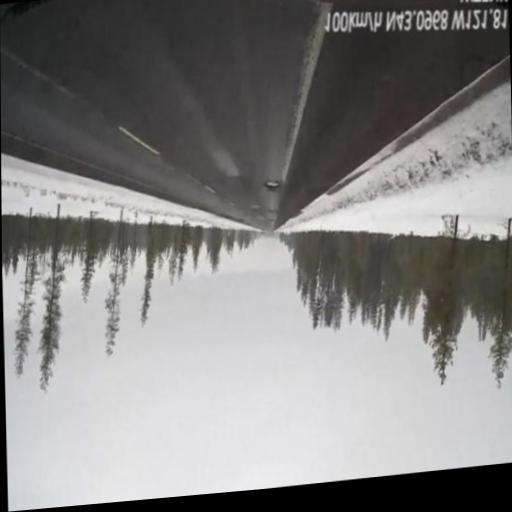pothole: (137, 95, 412, 282)
